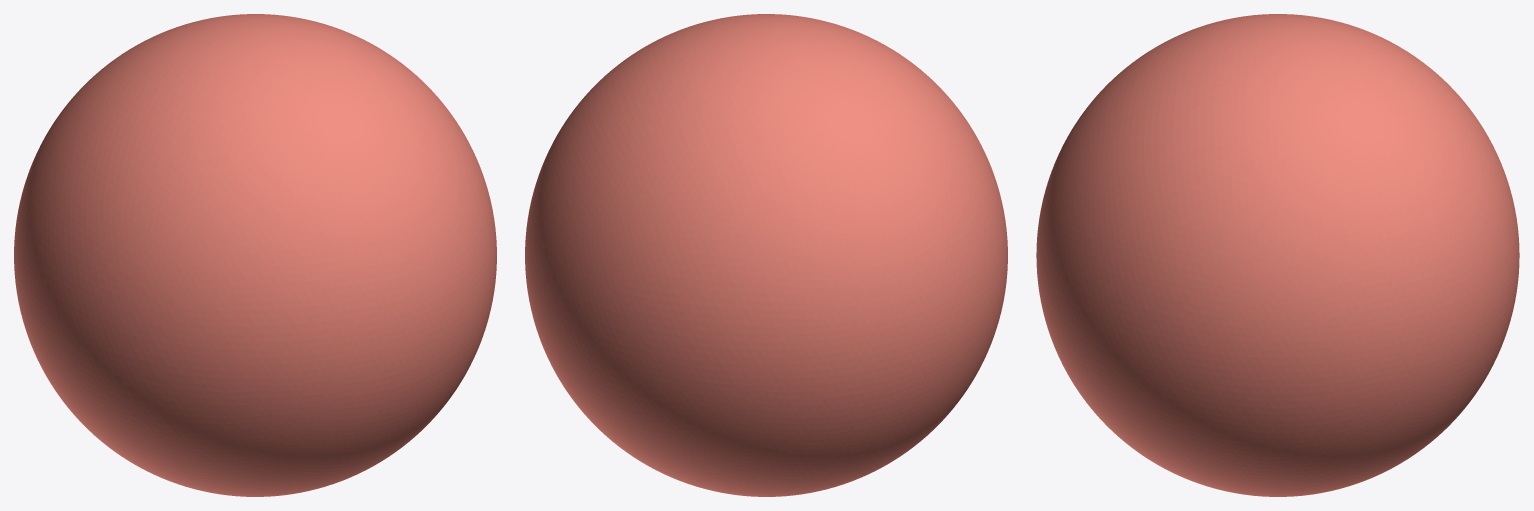
Rendered from prop_overbudget.glb.
The picture shows the model from 3 angles, left to right: view 1: azimuth 30°, elevation 25°; view 2: azimuth 150°, elevation 25°; view 3: azimuth 270°, elevation 25°; orthographic projection.
Visible parts, largest first — view 1: prop_overbudget; view 2: prop_overbudget; view 3: prop_overbudget.
Part boxes in pixels (left/top/right/bottom): prop_overbudget: left=14, top=14, right=496, bottom=496; prop_overbudget: left=525, top=14, right=1007, bottom=496; prop_overbudget: left=1036, top=14, right=1519, bottom=496.
Bounding box in the file's own units: 2 × 2 × 2.
